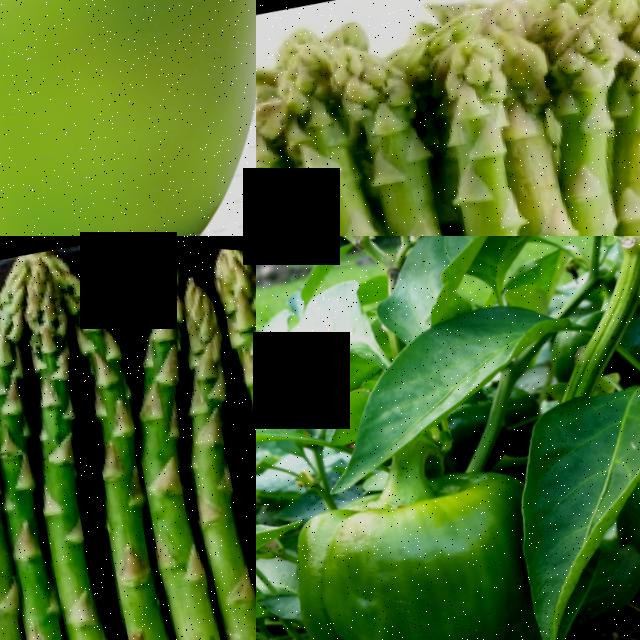apple: (0, 0, 256, 236)
asparagus: (43, 279, 236, 640), (0, 263, 179, 640), (82, 259, 256, 640), (0, 254, 137, 640), (142, 287, 256, 640), (0, 270, 84, 640), (184, 243, 256, 640), (424, 56, 568, 236), (269, 95, 426, 236), (353, 97, 479, 236), (571, 75, 640, 236)
bell pepper: (256, 417, 574, 640)
